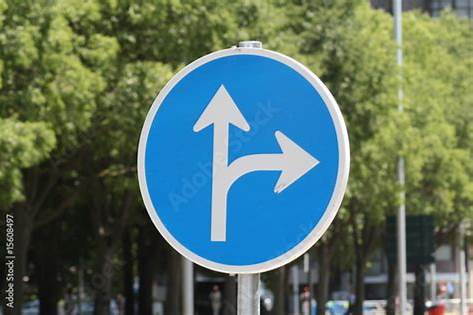ileri_veya_saga: (140, 44, 348, 269)
